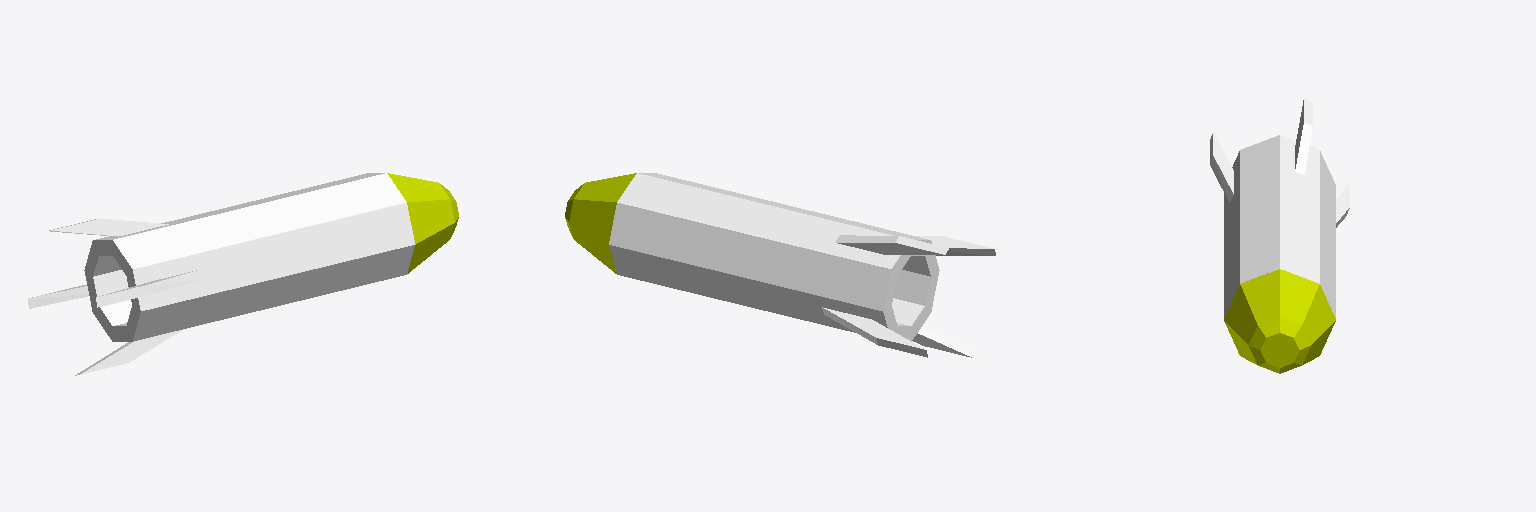
The picture shows the model from 3 angles: view 1: azimuth 30°, elevation 25°; view 2: azimuth 150°, elevation 25°; view 3: azimuth 270°, elevation 25°; orthographic projection.
Visible parts, largest first — view 1: Cylinder.002; view 2: Cylinder.002; view 3: Cylinder.002.
Part boxes in pixels (left/top/right/bottom): Cylinder.002: left=28, top=173, right=458, bottom=375; Cylinder.002: left=565, top=173, right=995, bottom=357; Cylinder.002: left=1210, top=98, right=1349, bottom=373.
Size of the model in its own units: 4.07 by 1.28 by 1.28.
Materials: 1 (1 with a texture image).